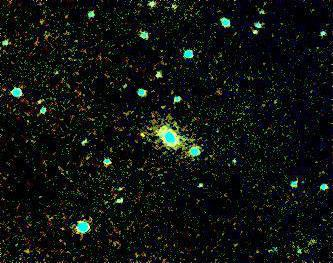star: (126, 120, 156, 150)
